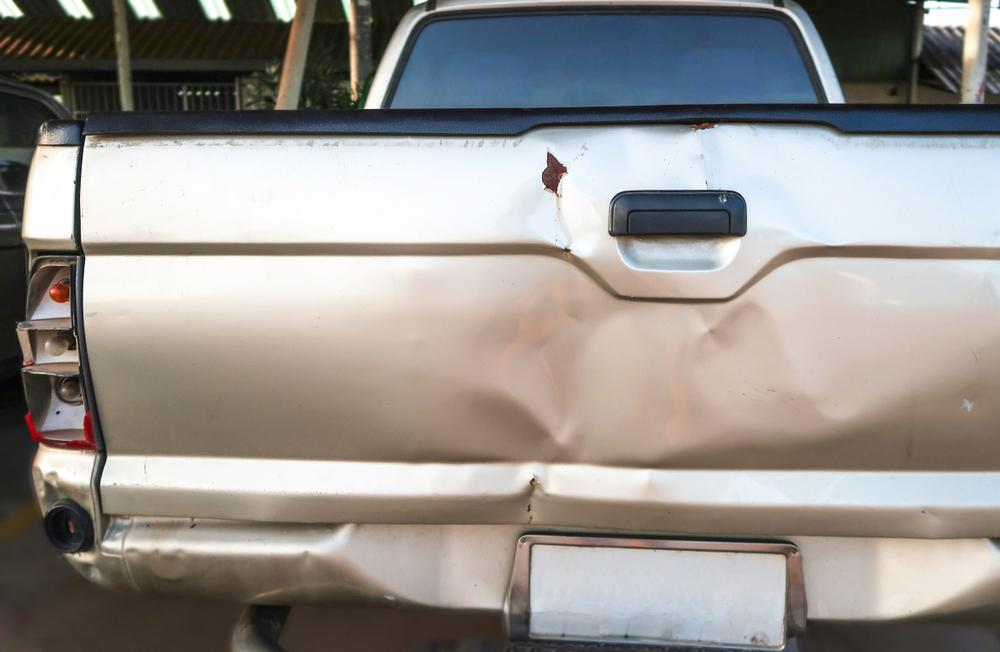dent: (472, 123, 841, 475)
lamp broken: (20, 257, 98, 450)
